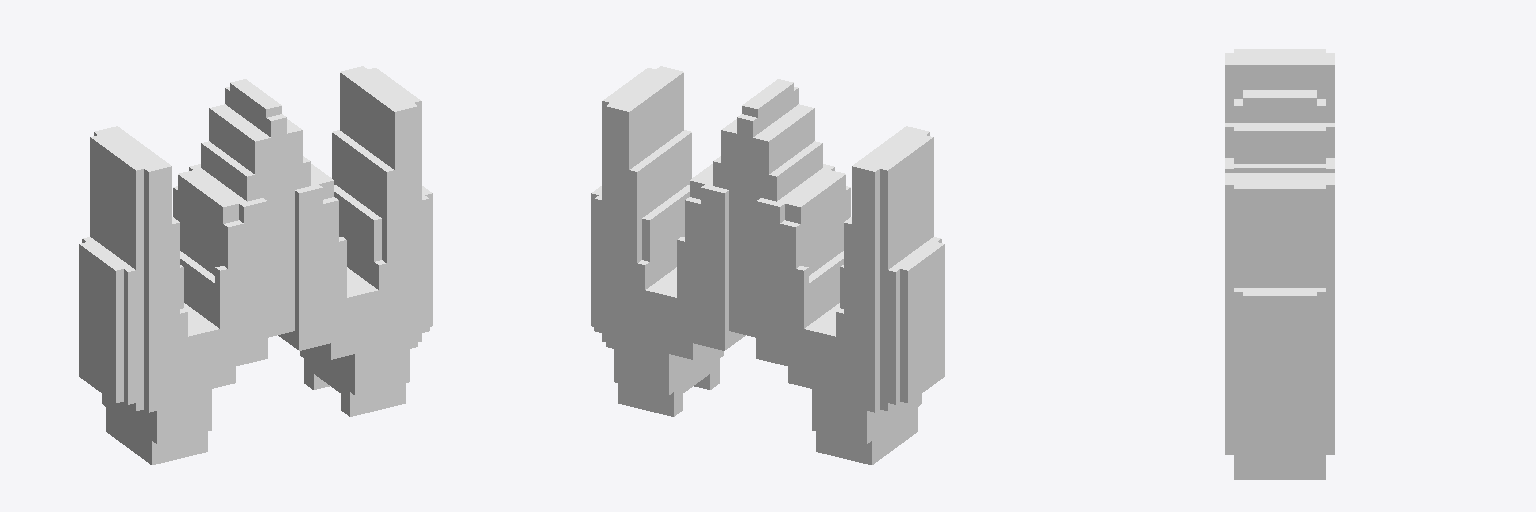
Rendered from ShaceShipEnemy.obj.
3 views of the same model, side by side, from view 1: azimuth 30°, elevation 25°; view 2: azimuth 150°, elevation 25°; view 3: azimuth 270°, elevation 25° (orthographic).
Visible parts, largest first — view 1: object 1; view 2: object 1; view 3: object 1.
Boxes of the visible parts, x1=… form: object 1: x1=79, y1=66, x2=432, y2=464; object 1: x1=591, y1=66, x2=944, y2=464; object 1: x1=1225, y1=49, x2=1334, y2=479.
Size of the model in its own units: 4 by 3.9 by 1.2.